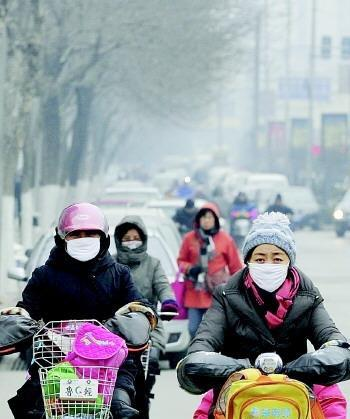NONE: (202, 216, 215, 231)
OK: (246, 245, 292, 291), (67, 231, 104, 263), (121, 235, 144, 256)
